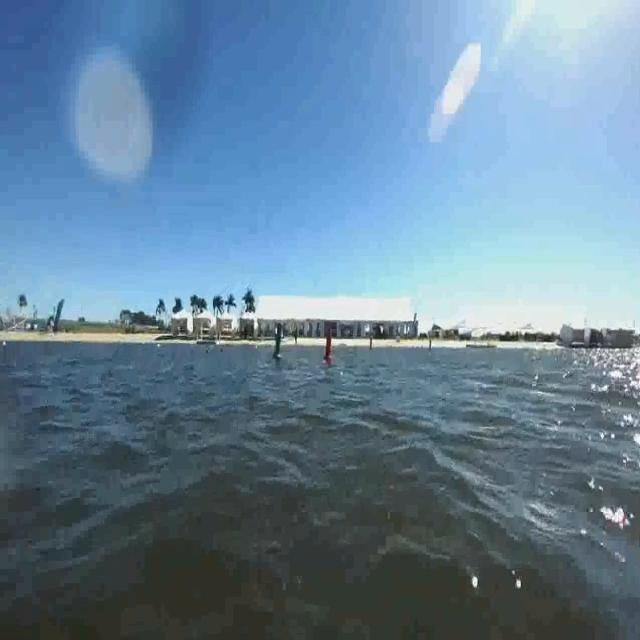green-column-buoy: (272, 326, 286, 363)
red-column-buoy: (326, 328, 338, 364)
